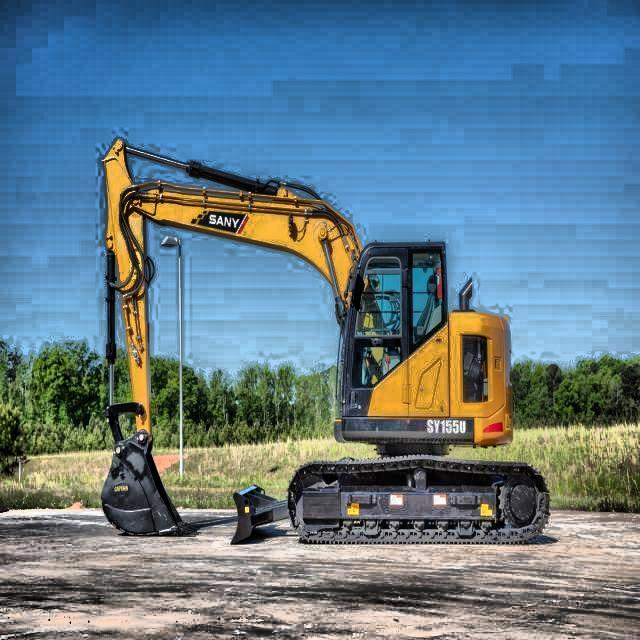excavator: (101, 136, 554, 546)
